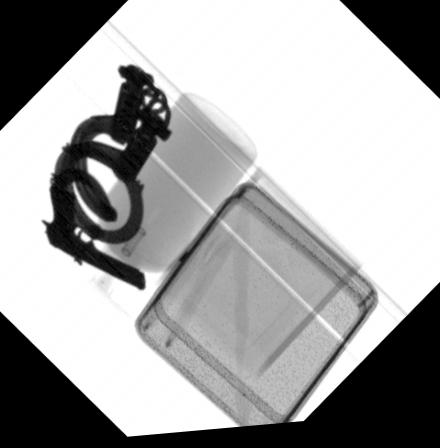Gun: (41, 182, 144, 293)
HandCuffs: (47, 60, 174, 248)
